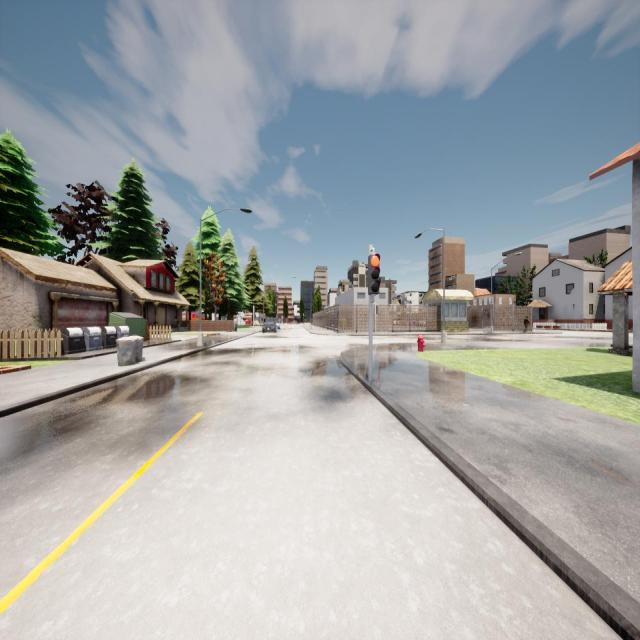Pedestrian: (523, 316, 530, 332), (234, 314, 237, 331)
Vehicle: (262, 318, 276, 334), (277, 323, 280, 329)
traffic_light: (368, 255, 379, 293), (376, 306, 378, 314), (303, 313, 304, 316)
